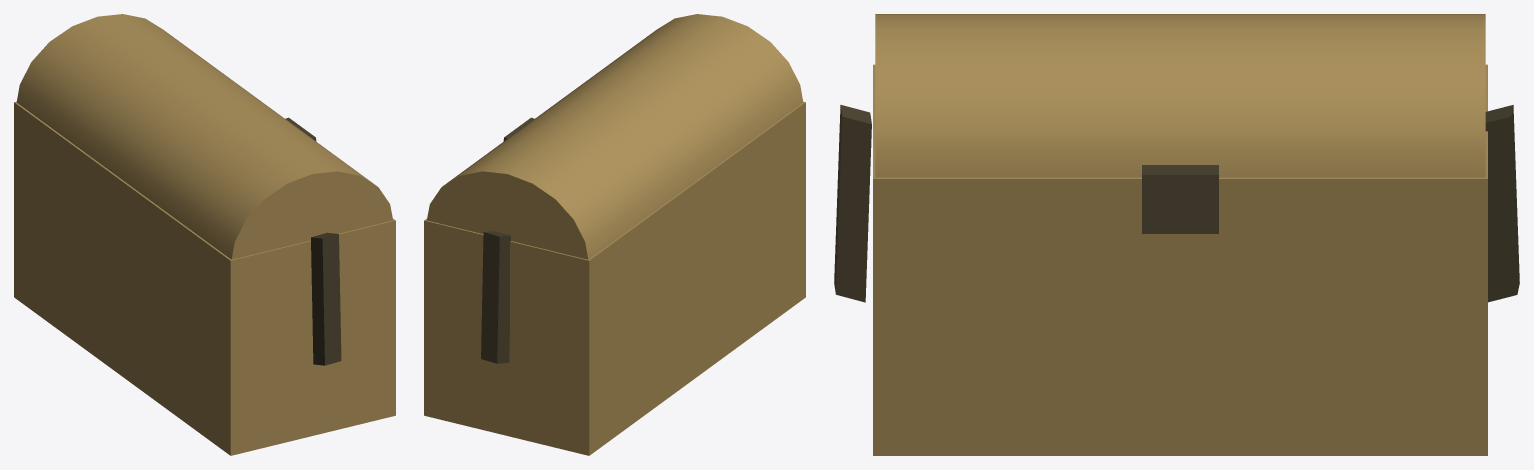
The model's file is Chest.fbx.
The picture shows the model from 3 angles, left to right: view 1: azimuth 30°, elevation 25°; view 2: azimuth 150°, elevation 25°; view 3: azimuth 270°, elevation 25°; orthographic projection. The views are drawn at different scales.
Parts seen in each view (by area): view 1: pCube1, pCylinder1, pasted__pCube2; view 2: pCube1, pCylinder1, pasted__pasted__pCube2; view 3: pCube1, pCylinder1, pasted__pCube2, pasted__pasted__pCube2, pCube2.
Part boxes in pixels (left/top/right/bottom): pCube1: left=14, top=101, right=395, bottom=455; pCylinder1: left=16, top=14, right=392, bottom=259; pasted__pCube2: left=311, top=232, right=341, bottom=365; pCube1: left=424, top=101, right=805, bottom=455; pCylinder1: left=427, top=14, right=803, bottom=259; pasted__pasted__pCube2: left=481, top=231, right=510, bottom=363; pCube1: left=873, top=64, right=1487, bottom=455; pCylinder1: left=875, top=14, right=1485, bottom=177; pasted__pCube2: left=834, top=105, right=871, bottom=302; pasted__pasted__pCube2: left=1485, top=105, right=1519, bottom=302; pCube2: left=1142, top=165, right=1218, bottom=233.
Bounding box in the file's own units: 3.06 × 4.16 × 6.97.
